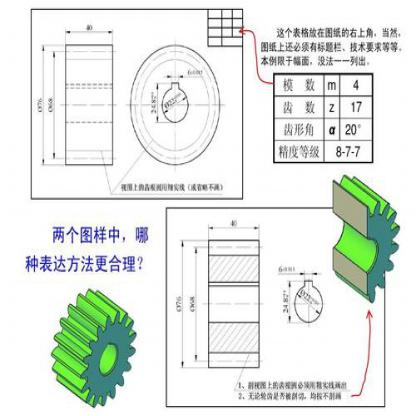FOD: (49, 283, 137, 409), (331, 171, 401, 305)
